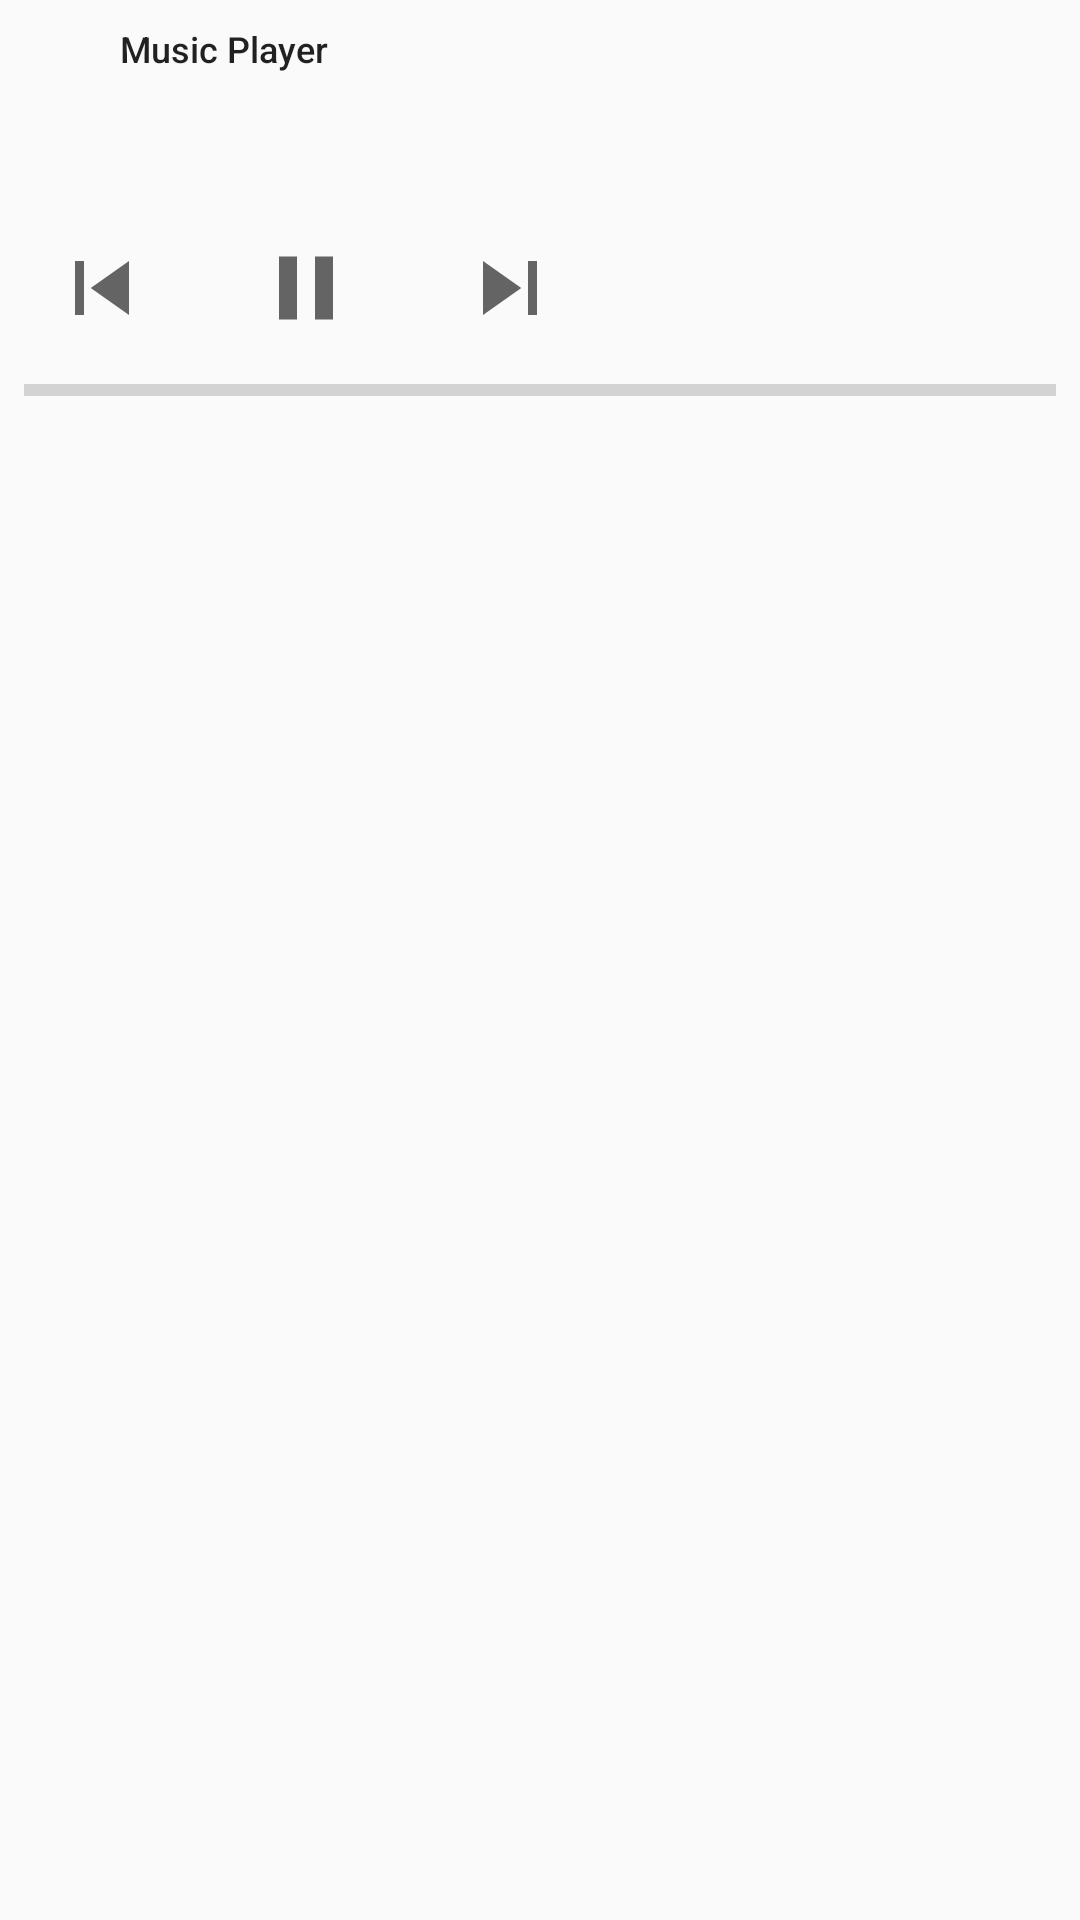

Icons on this 1080w x 1920h Android screen, each with the point to tap as (x,y):
next: (510,288)
pause: (306,288)
previous: (102,288)
